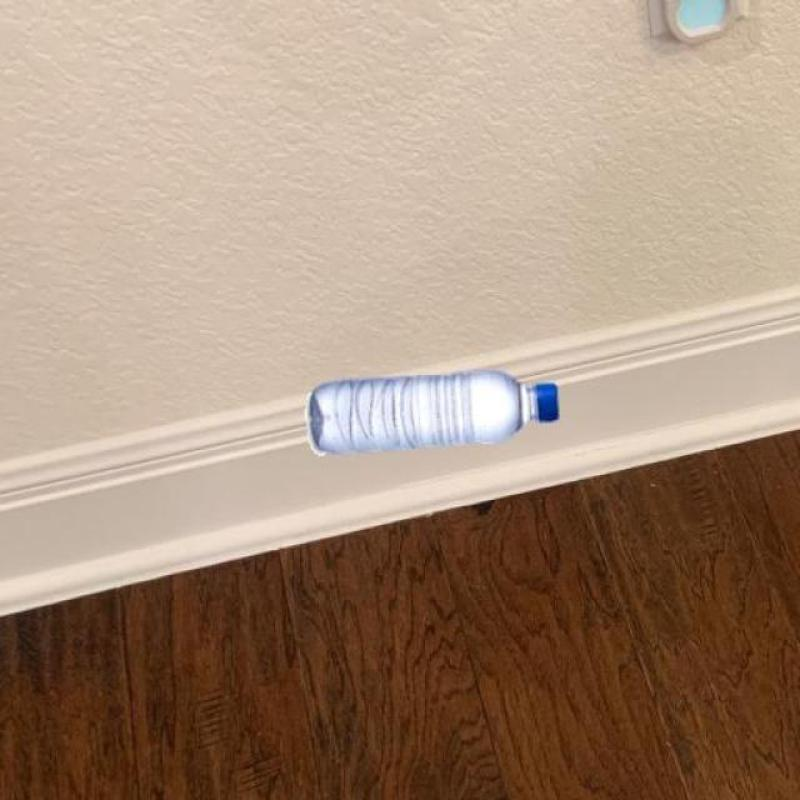botella: (309, 370, 560, 454)
